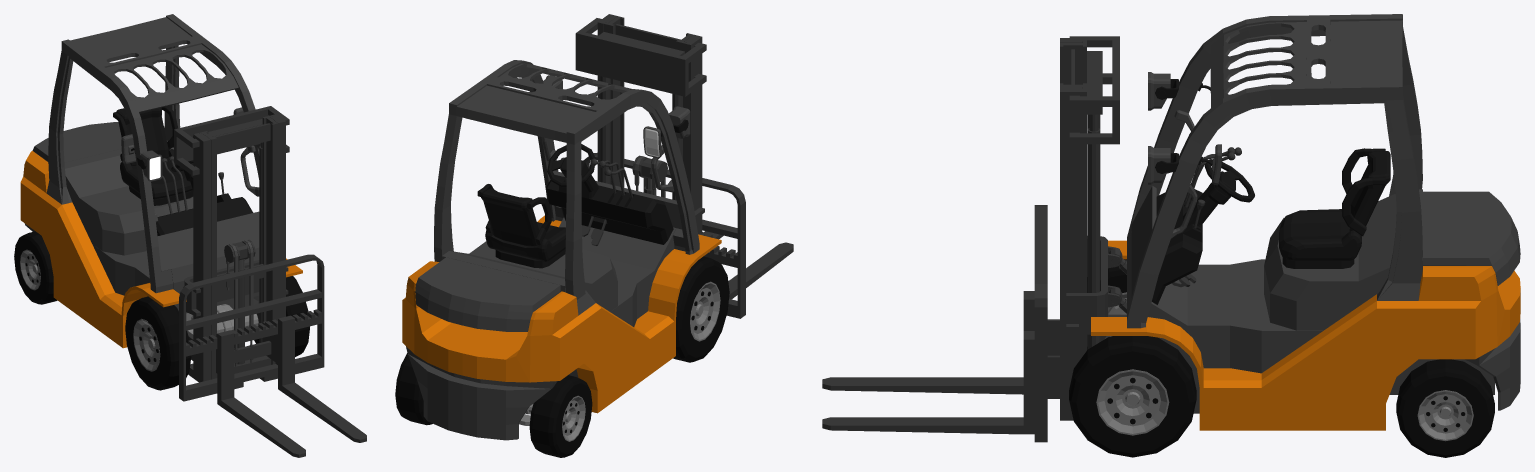
File: WarehouseForklift.glb
The picture shows the model from 3 angles, left to right: view 1: azimuth 30°, elevation 25°; view 2: azimuth 150°, elevation 25°; view 3: azimuth 270°, elevation 25°; orthographic projection. The views are drawn at different scales.
Parts seen in each view (by area): view 1: Main body, Cab, Fork3, Fork1, Wheels, Fork2; view 2: Main body, Cab, Wheels, Fork1, Fork3, Fork2; view 3: Main body, Cab, Wheels, Fork1, Fork3, Fork2.
Part boxes in pixels (x1,y1,x2,y2): Main body: (20,122,302,348); Cab: (46,14,260,293); Fork3: (179,254,366,457); Fork1: (174,106,289,382); Wheels: (14,231,309,390); Fork2: (193,115,278,379); Main body: (402,170,721,440); Cab: (434,60,699,315); Wheels: (395,256,729,457); Fork1: (575,14,706,235); Fork3: (583,152,793,318); Fork2: (599,16,693,197); Main body: (1091,186,1520,430); Cab: (1127,14,1422,328); Wheels: (1069,259,1494,457); Fork1: (1060,36,1126,420); Fork3: (822,205,1059,442); Fork2: (1060,41,1102,114).
Size of the model in its own units: 1.23 by 2.23 by 3.88.
